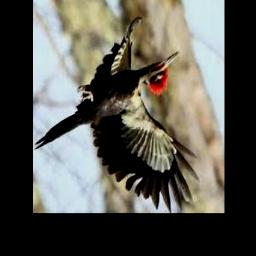Woodpecker: (34, 18, 199, 213)
